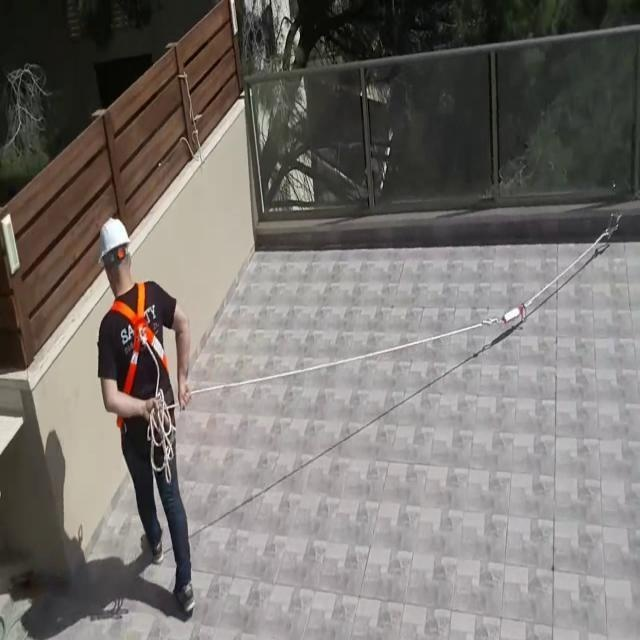Arnes_seguridad: (107, 281, 177, 426)
